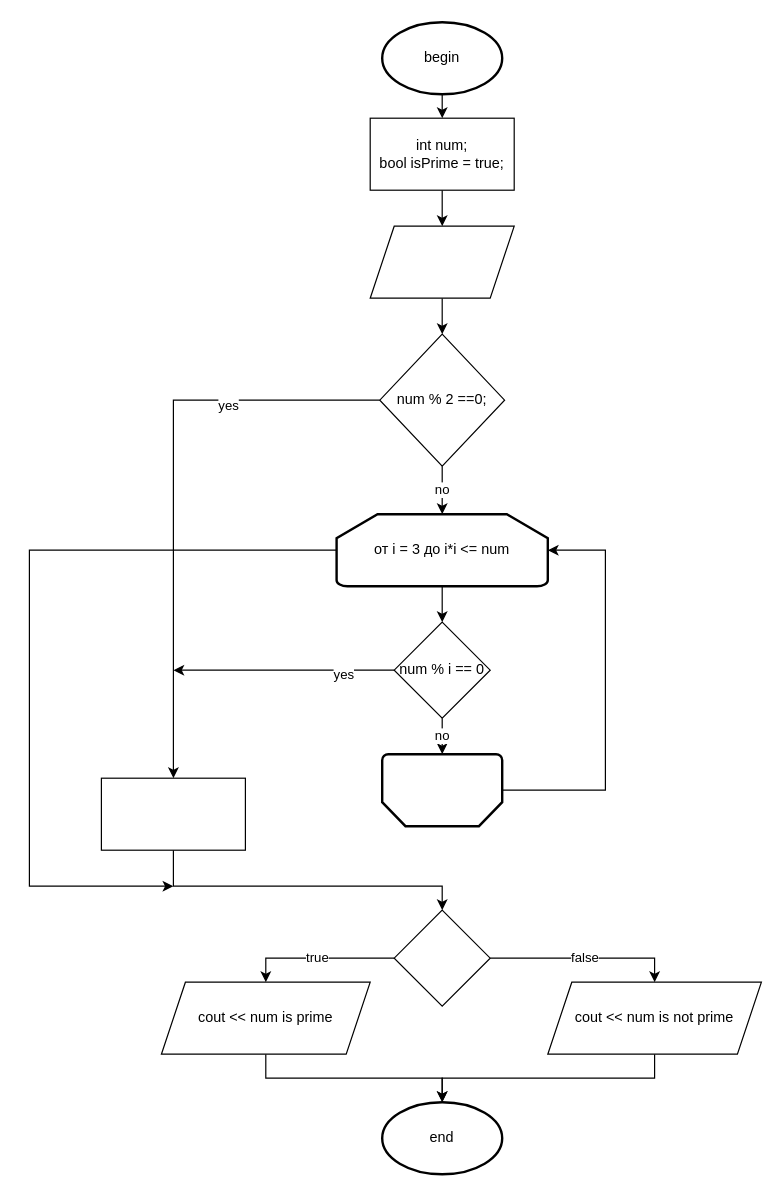
Some shapes in this 782 by 1195 pixel diagram are drawn without their labels. The centre of each missing label's shape, as x and y in pixels:
++i: the point at 441,789
cin >> num;: the point at 441,261
isPrime: the point at 441,957
isPrime = false;: the point at 172,813
